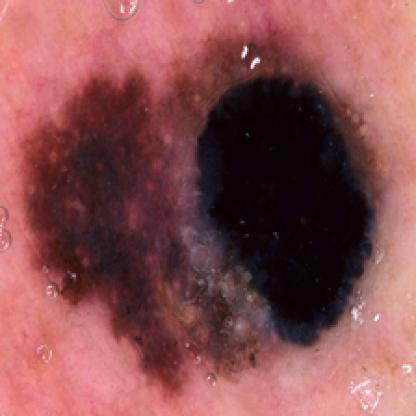Skin_Cancer-Malignant: (17, 29, 394, 405)
